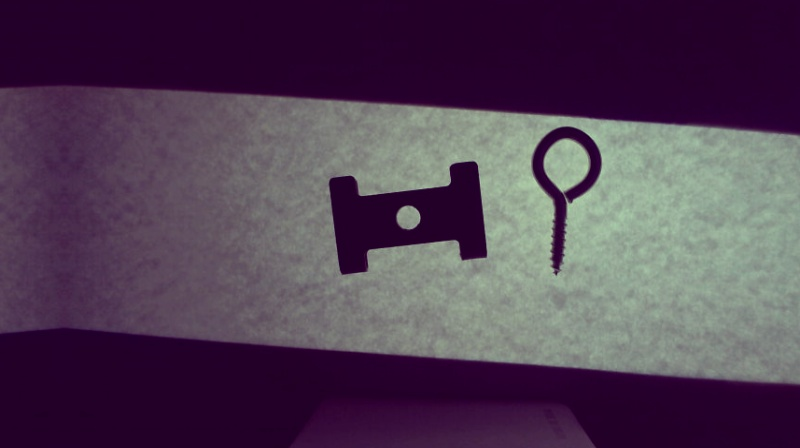O001: (528, 126, 603, 278)
O002: (329, 160, 486, 274)
